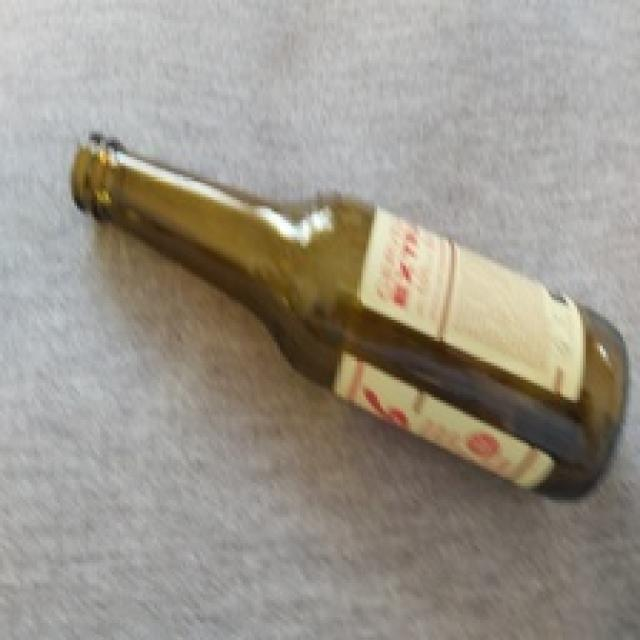Glass: (67, 130, 634, 501)
